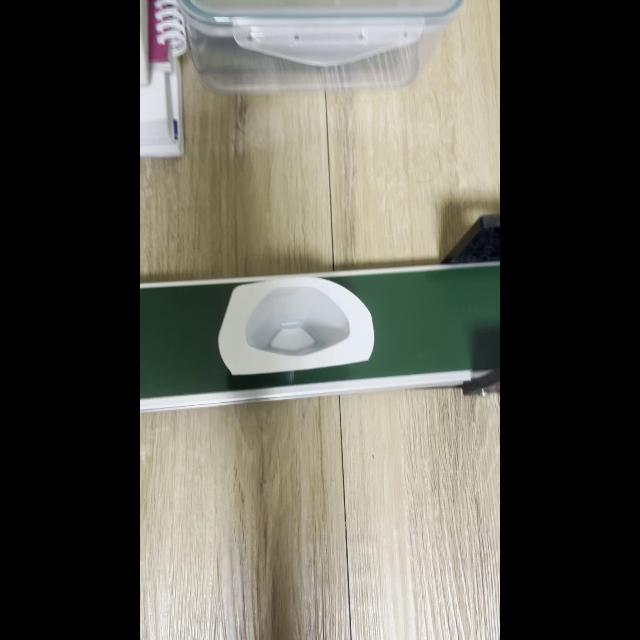clean: (230, 281, 356, 373)
